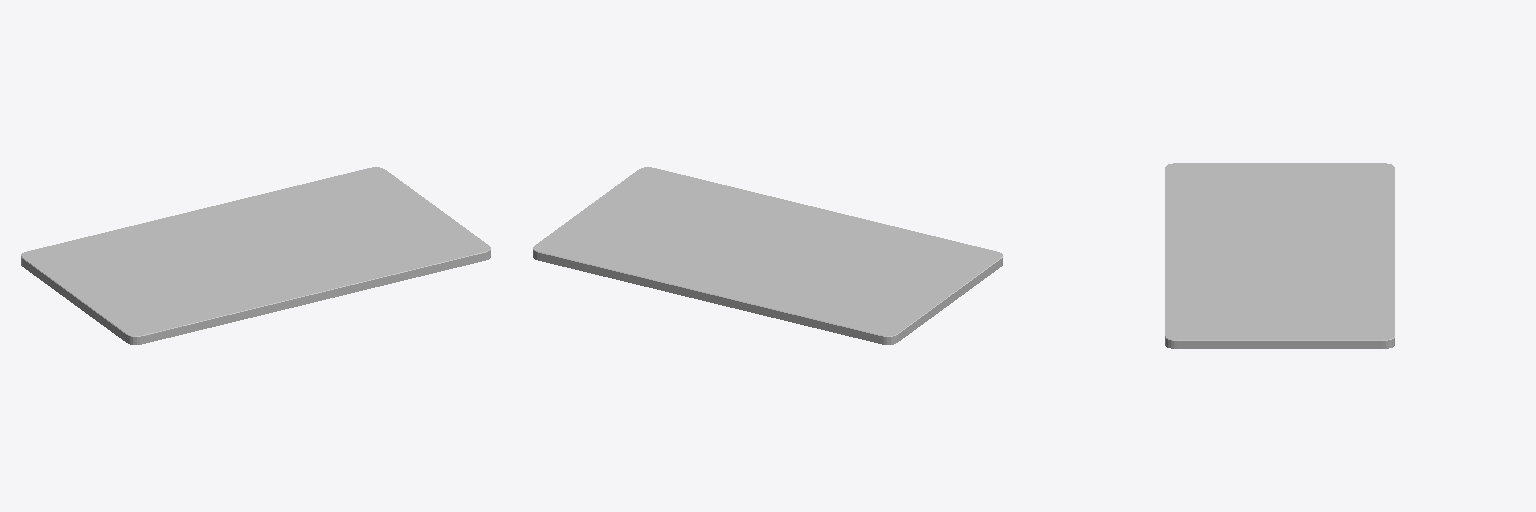
3 views of the same model, side by side, from view 1: azimuth 30°, elevation 25°; view 2: azimuth 150°, elevation 25°; view 3: azimuth 270°, elevation 25° (orthographic).
Visible parts, largest first — view 1: Table; view 2: Table; view 3: Table.
Boxes of the visible parts, x1,y1,x2,y2 form: Table: [21, 167, 490, 344]; Table: [533, 167, 1002, 344]; Table: [1165, 163, 1394, 348].
Size of the model in its own units: 182 by 4.14 by 100.